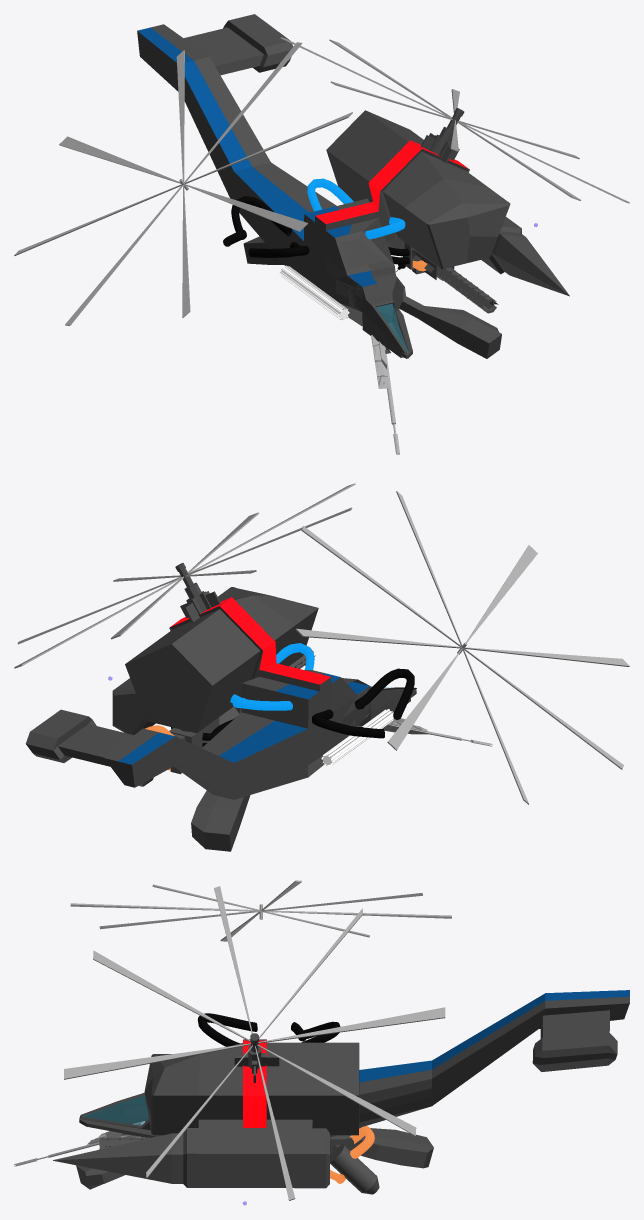
The model's file is herikoputa.gltf.
3 renders of one model, top to bottom at view 1: azimuth 30°, elevation 25°; view 2: azimuth 150°, elevation 25°; view 3: azimuth 270°, elevation 25°, orthographic. The views are drawn at different scales.
Parts seen in each view (by area): view 1: ボディ, メインプロペラ 左.001, 円錐.004, 円錐.001, メインプロペラ 左, 円錐.002, ロータリーランチャー, 円柱, 自動小銃, 007 カバー, 電磁粒子砲, NURBSパス.007 (+1 smaller); view 2: ボディ, メインプロペラ 左.001, メインプロペラ 左, 円錐.004, 円錐.002, 006 カバー, ロータリーランチャー, 007 カバー, 電磁粒子砲, NURBSパス.007, 自動小銃, NURBSパス.006; view 3: ボディ, メインプロペラ 左, メインプロペラ 左.001, 円錐.004, 円錐.002, 円柱.006, 円錐.003, 006 カバー, 円錐.001, 007 カバー, 自動小銃, NURBSパス.002.
Boxes of the visible parts, <box> form: ボディ: <box>137,14,569,358</box>; メインプロペラ 左.001: <box>14,42,352,325</box>; 円錐.004: <box>137,27,377,286</box>; 円錐.001: <box>399,296,501,358</box>; メインプロペラ 左: <box>280,37,629,203</box>; 円錐.002: <box>315,140,469,223</box>; ロータリーランチャー: <box>279,265,349,320</box>; 円柱: <box>414,250,498,313</box>; 自動小銃: <box>371,335,399,454</box>; 007 カバー: <box>223,196,292,246</box>; 電磁粒子砲: <box>386,237,454,280</box>; NURBSパス.007: <box>307,178,353,211</box>; ボディ: <box>25,563,416,851</box>; メインプロペラ 左.001: <box>295,491,629,804</box>; メインプロペラ 左: <box>14,483,355,668</box>; 円錐.004: <box>118,673,369,764</box>; 円錐.002: <box>170,597,330,684</box>; 006 カバー: <box>354,668,414,719</box>; ロータリーランチャー: <box>321,709,393,766</box>; 007 カバー: <box>312,709,384,738</box>; 電磁粒子砲: <box>169,706,241,774</box>; NURBSパス.007: <box>230,694,292,710</box>; 自動小銃: <box>383,718,492,746</box>; NURBSパス.006: <box>276,643,314,669</box>; ボディ: <box>53,996,629,1188</box>; メインプロペラ 左: <box>64,886,445,1200</box>; メインプロペラ 左.001: <box>70,880,451,941</box>; 円錐.004: <box>359,990,629,1082</box>; 円錐.002: <box>243,1039,266,1127</box>; 円柱.006: <box>330,1144,379,1194</box>; 円錐.003: <box>83,1096,148,1125</box>; 006 カバー: <box>197,1013,257,1046</box>; 円錐.001: <box>76,1135,162,1189</box>; 007 カバー: <box>291,1021,340,1042</box>; 自動小銃: <box>14,1121,144,1166</box>; NURBSパス.002: <box>349,1126,374,1158</box>.
Bounding box in the file's own units: 19.97 × 10.53 × 19.17.
